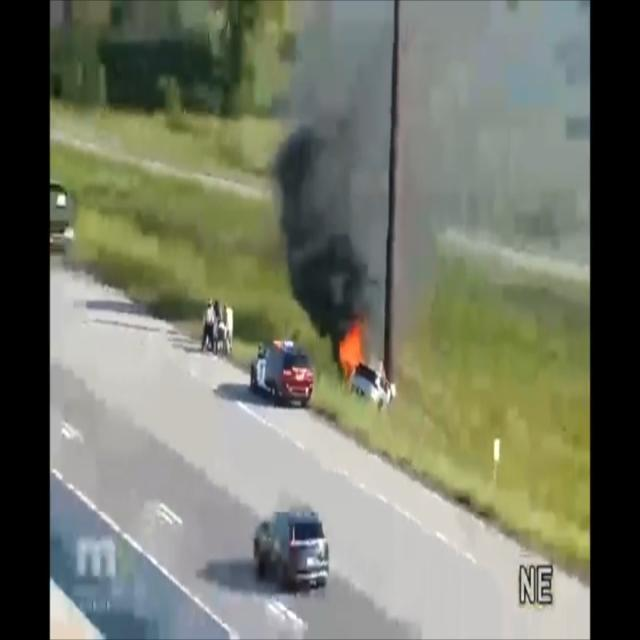fire: (336, 320, 366, 385)
